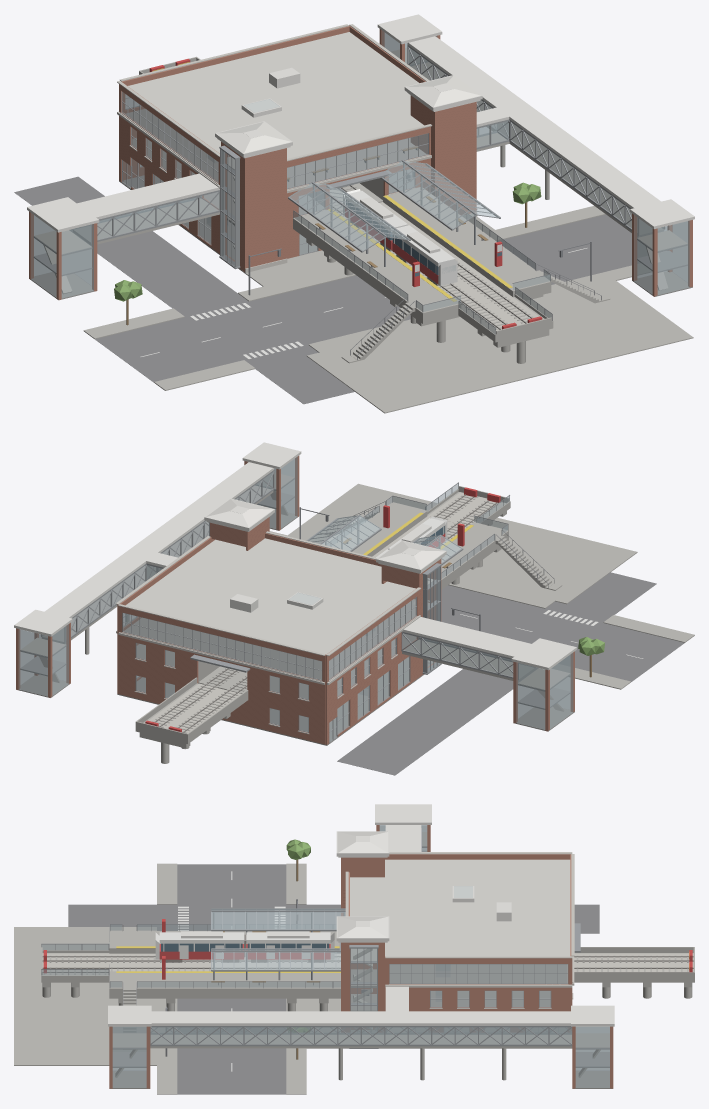
Rendered from clay-ctrain-elevated-station-clay-v003.glb.
The picture shows the model from 3 angles, top to bottom: view 1: azimuth 30°, elevation 25°; view 2: azimuth 150°, elevation 25°; view 3: azimuth 270°, elevation 25°; orthographic projection. The views are drawn at different scales.
Parts seen in each view (by area): view 1: CLAY_CONCRETE, CLAY_ASPHALT, CLAY_GLASS, CLAY_WALL, CLAY_MEMBRANE, CLAY_PALE, CLAY_TRIM, CLAY_FLOOR, CLAY_STONE, CLAY_SAND, CLAY_FOUNDATION, CLAY_WHITE (+6 smaller); view 2: CLAY_CONCRETE, CLAY_GLASS, CLAY_WALL, CLAY_MEMBRANE, CLAY_ASPHALT, CLAY_PALE, CLAY_TRIM, CLAY_FLOOR, CLAY_FOUNDATION, CLAY_SAND, CLAY_STONE, CLAY_HARDWARE (+3 smaller); view 3: CLAY_CONCRETE, CLAY_GLASS, CLAY_MEMBRANE, CLAY_ASPHALT, CLAY_PALE, CLAY_TRIM, CLAY_WALL, CLAY_FLOOR, CLAY_SAND, CLAY_WHITE, CLAY_STONE, CLAY_RAIL (+5 smaller).
Boxes of the visible parts, x1=… form: CLAY_CONCRETE: x1=34, y1=48, x2=693, y2=413; CLAY_ASPHALT: x1=14, y1=176, x2=647, y2=404; CLAY_GLASS: x1=31, y1=30, x2=689, y2=334; CLAY_WALL: x1=29, y1=25, x2=692, y2=299; CLAY_MEMBRANE: x1=128, y1=32, x2=423, y2=169; CLAY_PALE: x1=27, y1=14, x2=694, y2=253; CLAY_TRIM: x1=33, y1=45, x2=687, y2=276; CLAY_FLOOR: x1=126, y1=109, x2=425, y2=225; CLAY_STONE: x1=117, y1=24, x2=477, y2=272; CLAY_SAND: x1=338, y1=202, x2=542, y2=333; CLAY_FOUNDATION: x1=30, y1=175, x2=692, y2=299; CLAY_WHITE: x1=140, y1=189, x2=587, y2=359; CLAY_CONCRETE: x1=21, y1=472, x2=694, y2=763; CLAY_GLASS: x1=18, y1=457, x2=573, y2=741; CLAY_WALL: x1=16, y1=455, x2=574, y2=744; CLAY_MEMBRANE: x1=126, y1=538, x2=433, y2=654; CLAY_ASPHALT: x1=337, y1=572, x2=684, y2=775; CLAY_PALE: x1=14, y1=442, x2=576, y2=670; CLAY_TRIM: x1=20, y1=470, x2=570, y2=742; CLAY_FLOOR: x1=123, y1=582, x2=431, y2=699; CLAY_FOUNDATION: x1=16, y1=509, x2=574, y2=745; CLAY_SAND: x1=148, y1=492, x2=505, y2=733; CLAY_STONE: x1=115, y1=531, x2=421, y2=734; CLAY_HARDWARE: x1=299, y1=482, x2=554, y2=631; CLAY_CONCRETE: x1=14, y1=832, x2=694, y2=1094; CLAY_GLASS: x1=41, y1=825, x2=609, y2=1087; CLAY_MEMBRANE: x1=350, y1=859, x2=570, y2=960; CLAY_ASPHALT: x1=68, y1=864, x2=599, y2=1094; CLAY_PALE: x1=108, y1=804, x2=614, y2=1026; CLAY_TRIM: x1=112, y1=828, x2=609, y2=1067; CLAY_WALL: x1=109, y1=825, x2=613, y2=1088; CLAY_FLOOR: x1=351, y1=964, x2=567, y2=1011; CLAY_SAND: x1=42, y1=953, x2=693, y2=975; CLAY_WHITE: x1=155, y1=871, x2=334, y2=1071; CLAY_STONE: x1=345, y1=852, x2=574, y2=1008; CLAY_RAIL: x1=42, y1=934, x2=693, y2=972.
Size of the model in its own units: 80 by 18.7 by 100.
